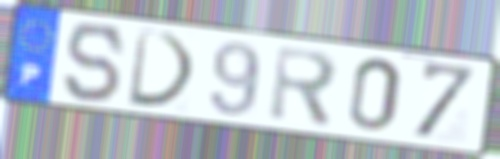0: (345, 55, 405, 135)
7: (412, 59, 478, 142)
9: (206, 39, 261, 120)
D: (125, 26, 201, 111)
R: (266, 43, 342, 132)
S: (63, 21, 128, 105)
